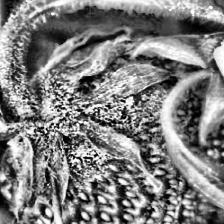Gray Mold: (0, 0, 209, 224)
